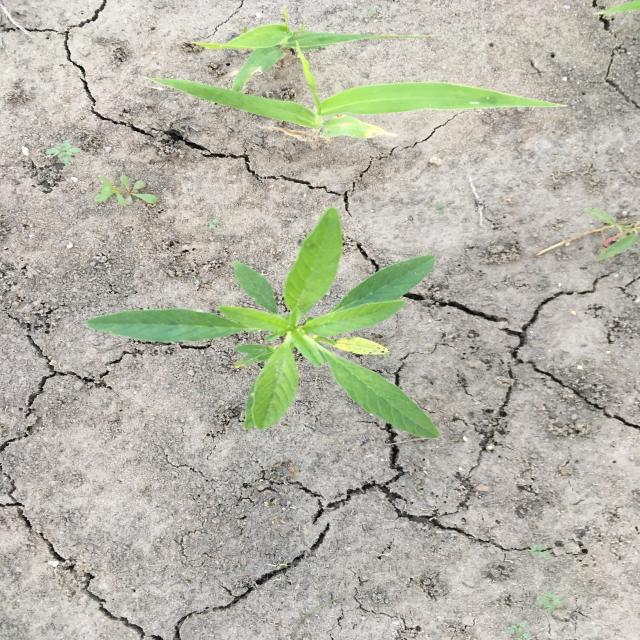Carpetweed: (90, 172, 161, 208)
Ragweed: (45, 142, 82, 166)
Waterhemp: (83, 206, 444, 442)
